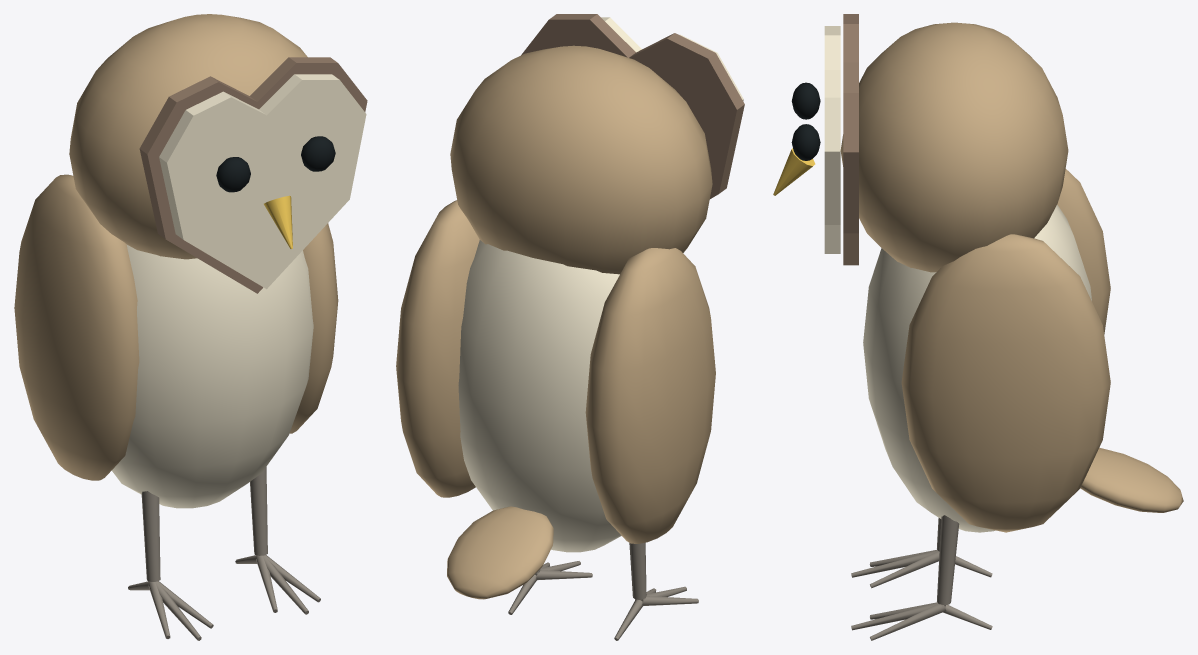
The model's file is bird_barn_owl.glb.
3 renders of one model, left to right at view 1: azimuth 30°, elevation 25°; view 2: azimuth 150°, elevation 25°; view 3: azimuth 270°, elevation 25°, orthographic.
Visible parts, largest first — view 1: Barn_Owl_Upright_Body, Barn_Owl_Folded_Wing_-1, Barn_Owl_Pale_Heart_Facial_Disc, Barn_Owl_Round_Head, Barn_Owl_Heart_Face_Border, Barn_Owl_Folded_Wing_1, Barn_Owl_Leg_-1, Barn_Owl_Leg_1, Barn_Owl_Eye_1, Barn_Owl_Eye_-1, Barn_Owl_Small_Hooked_Beak, Barn_Owl_Front_Toe_-1_1 (+1 smaller); view 2: Barn_Owl_Round_Head, Barn_Owl_Upright_Body, Barn_Owl_Folded_Wing_-1, Barn_Owl_Folded_Wing_1, Barn_Owl_Heart_Face_Border, Barn_Owl_Short_Tail, Barn_Owl_Leg_-1, Barn_Owl_Pale_Heart_Facial_Disc; view 3: Barn_Owl_Folded_Wing_1, Barn_Owl_Round_Head, Barn_Owl_Upright_Body, Barn_Owl_Short_Tail, Barn_Owl_Heart_Face_Border, Barn_Owl_Pale_Heart_Facial_Disc, Barn_Owl_Folded_Wing_-1, Barn_Owl_Leg_1, Barn_Owl_Eye_-1, Barn_Owl_Eye_1, Barn_Owl_Small_Hooked_Beak, Barn_Owl_Front_Toe_1_2.
Part boxes in pixels (box(x1,y1,x2,y2)): Barn_Owl_Upright_Body: box(112, 244, 313, 508); Barn_Owl_Folded_Wing_-1: box(14, 174, 139, 480); Barn_Owl_Pale_Heart_Facial_Disc: box(159, 74, 366, 289); Barn_Owl_Round_Head: box(69, 14, 307, 259); Barn_Owl_Heart_Face_Border: box(139, 57, 367, 293); Barn_Owl_Folded_Wing_1: box(289, 223, 338, 433); Barn_Owl_Leg_-1: box(141, 491, 160, 581); Barn_Owl_Leg_1: box(250, 467, 267, 555); Barn_Owl_Eye_1: box(301, 136, 335, 171); Barn_Owl_Eye_-1: box(216, 157, 250, 192); Barn_Owl_Small_Hooked_Beak: box(264, 195, 292, 248); Barn_Owl_Front_Toe_-1_1: box(150, 581, 201, 640); Barn_Owl_Round_Head: box(450, 45, 712, 274); Barn_Owl_Upright_Body: box(458, 240, 621, 552); Barn_Owl_Folded_Wing_-1: box(585, 248, 715, 543); Barn_Owl_Folded_Wing_1: box(396, 200, 479, 497); Barn_Owl_Heart_Face_Border: box(521, 14, 744, 199); Barn_Owl_Short_Tail: box(447, 506, 553, 599); Barn_Owl_Leg_-1: box(629, 542, 646, 599); Barn_Owl_Pale_Heart_Facial_Disc: box(601, 17, 743, 100); Barn_Owl_Folded_Wing_1: box(901, 234, 1110, 532); Barn_Owl_Round_Head: box(840, 22, 1068, 272); Barn_Owl_Upright_Body: box(863, 205, 1091, 532); Barn_Owl_Short_Tail: box(1080, 447, 1183, 512); Barn_Owl_Heart_Face_Border: box(843, 14, 858, 265); Barn_Owl_Pale_Heart_Facial_Disc: box(824, 26, 840, 253); Barn_Owl_Folded_Wing_-1: box(1057, 169, 1110, 334); Barn_Owl_Leg_1: box(937, 515, 959, 605); Barn_Owl_Eye_-1: box(791, 82, 820, 119); Barn_Owl_Eye_1: box(791, 124, 820, 160); Barn_Owl_Small_Hooked_Beak: box(773, 148, 815, 195); Barn_Owl_Front_Toe_1_2: box(870, 604, 946, 640).
Size of the model in its own units: 0.24 by 0.4737 by 0.3098.
